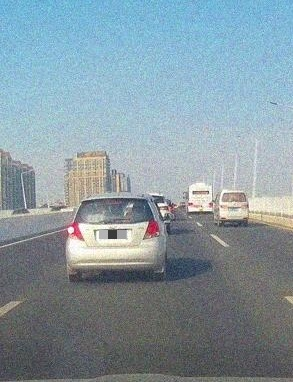L_light: (67, 221, 84, 241), (220, 205, 227, 208), (188, 203, 193, 206)
R_light: (142, 220, 160, 240), (242, 204, 248, 207), (208, 203, 213, 206)
T_light: (105, 200, 122, 203), (231, 193, 236, 195), (198, 185, 203, 186)
day-left: (66, 192, 166, 282)
day-no: (219, 190, 249, 226), (188, 183, 213, 215)
plate_1: (99, 230, 127, 239)
